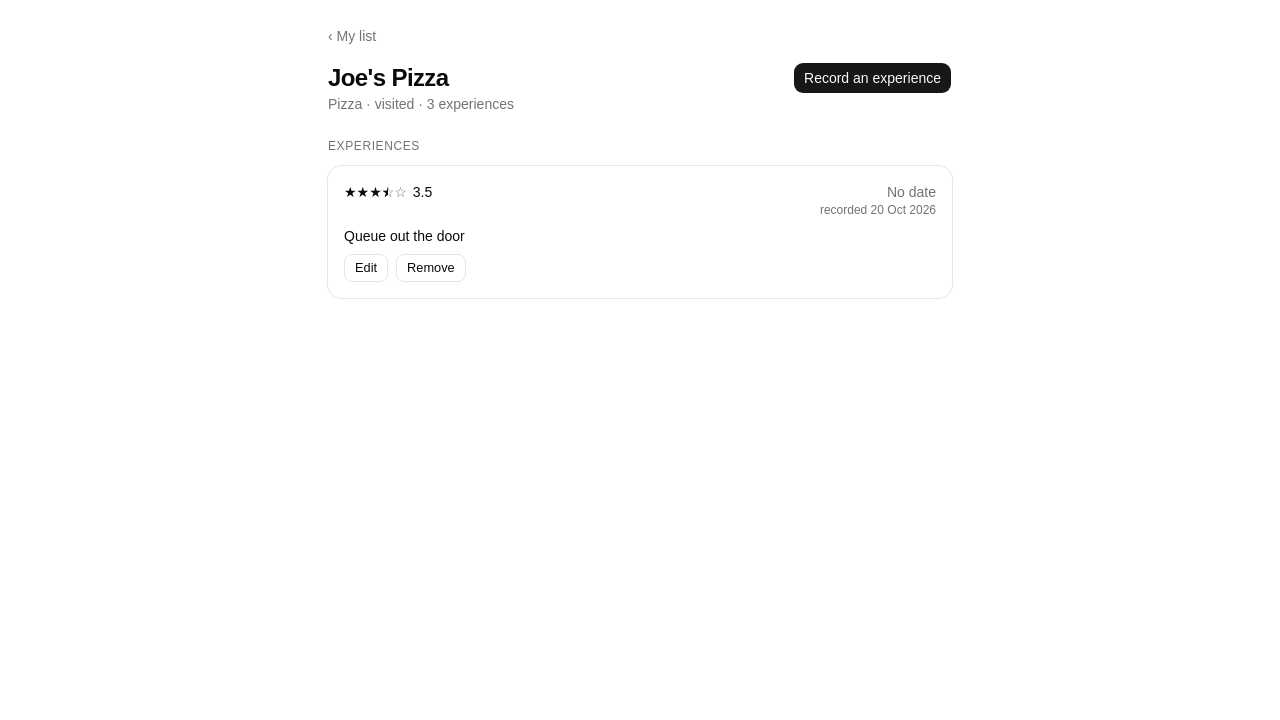
Test: removing an experience › shows the API's refusal and stays open
Click the button "Remove" at (431, 268), box 396,254 -> 466,282
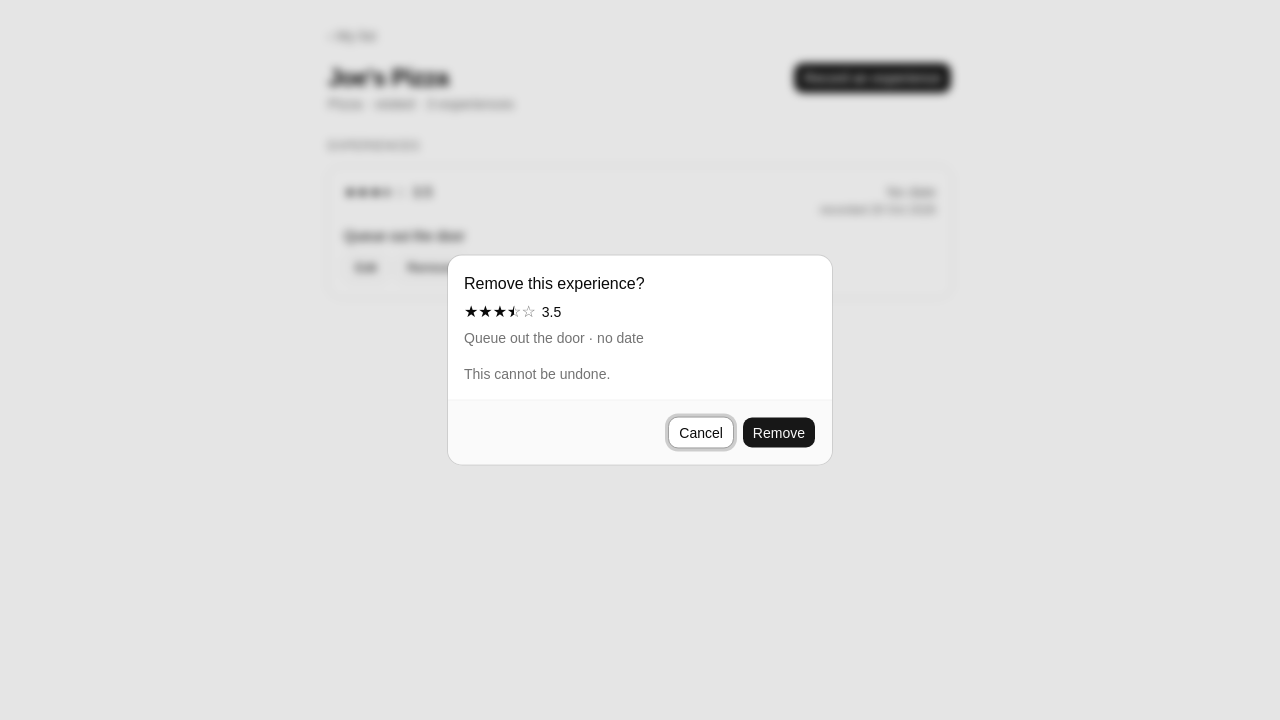
Expected: the heading "Remove this experience?" is shown, 464,272 -> 644,296
Click the button "Remove" at (779, 432), box 742,416 -> 816,448
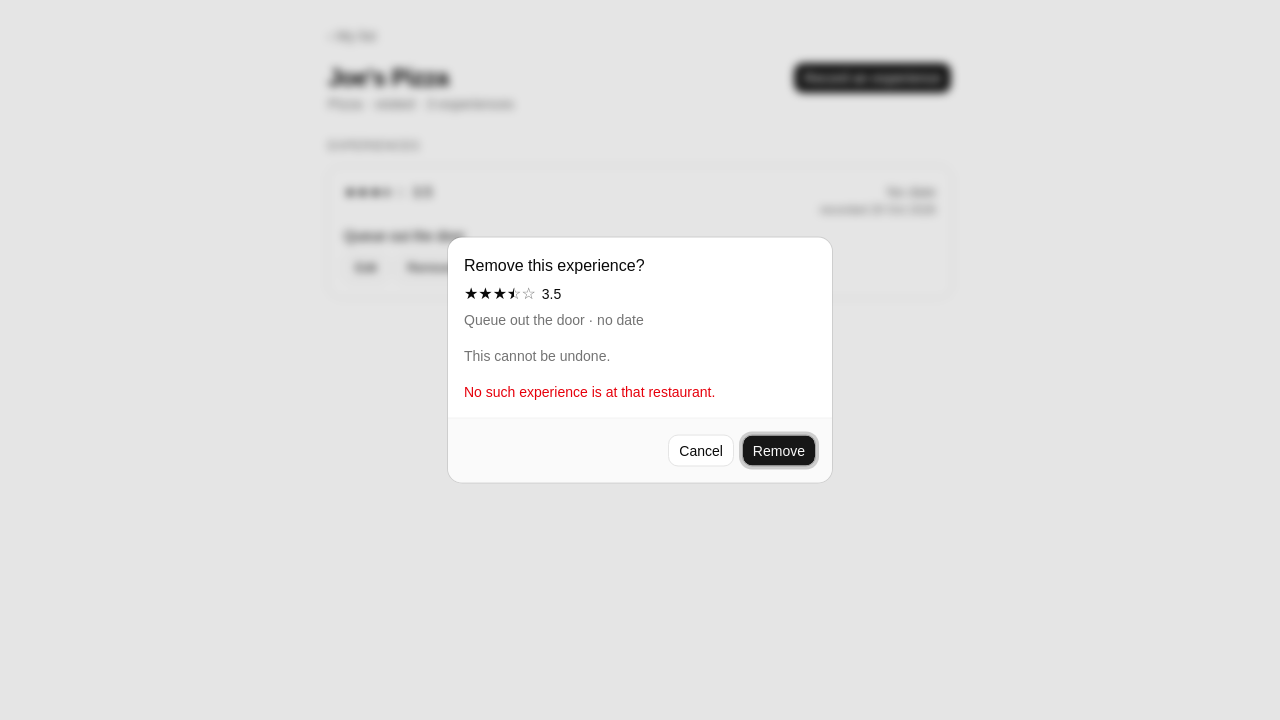
Expected: the dialog is shown, 448,238 -> 832,482
Expected: the text "No such experience is at that restaurant." is shown, 464,384 -> 715,400
